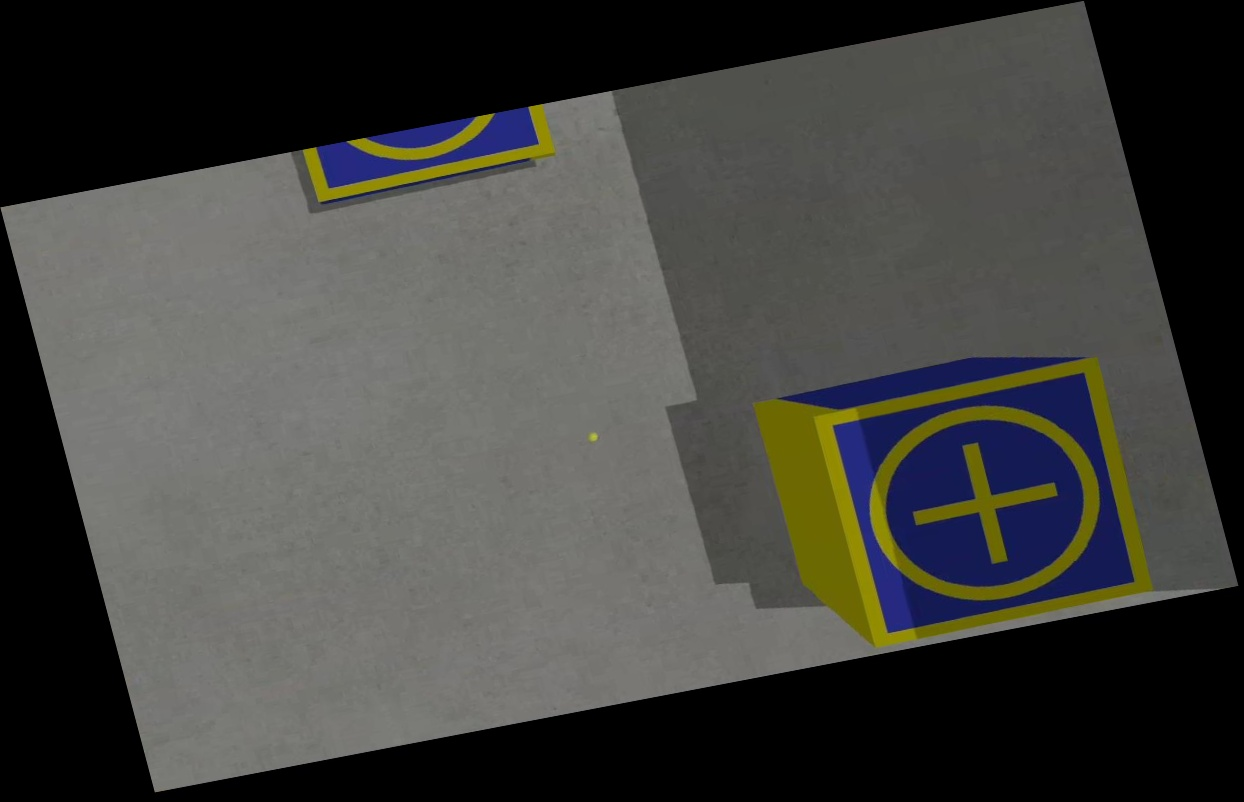small_base: (811, 358, 1155, 645), (298, 103, 558, 204)
